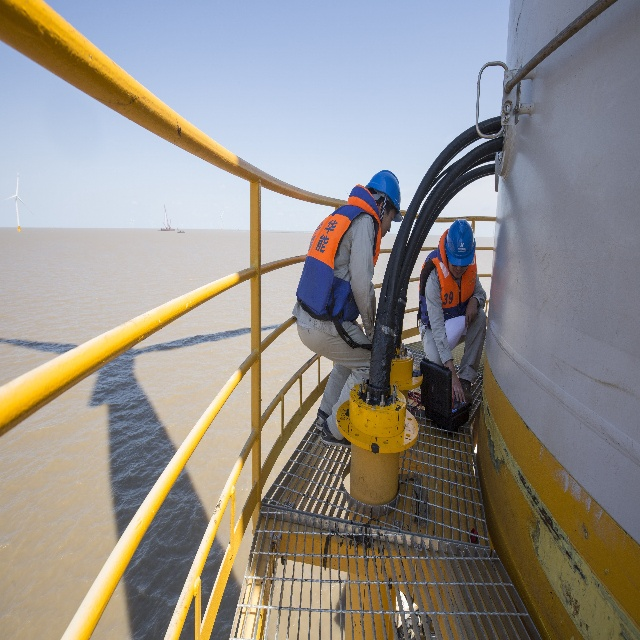Sin_guantes: (448, 366, 465, 403), (464, 297, 479, 329)
